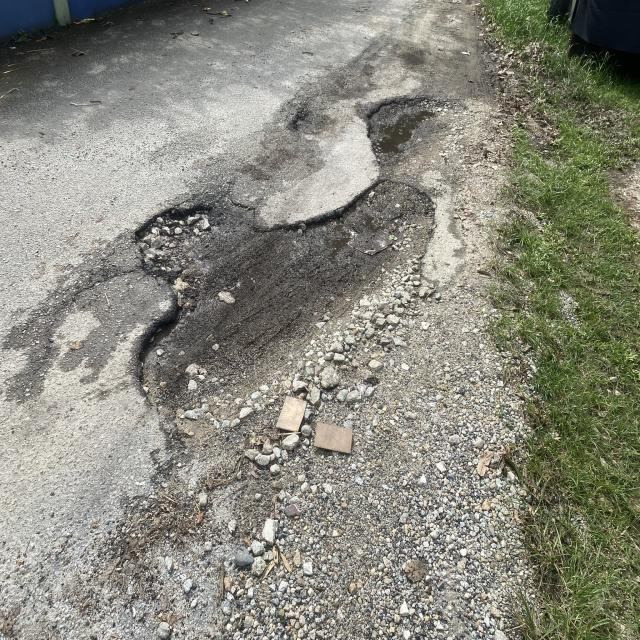pothole: (96, 170, 236, 451), (354, 62, 422, 228)
